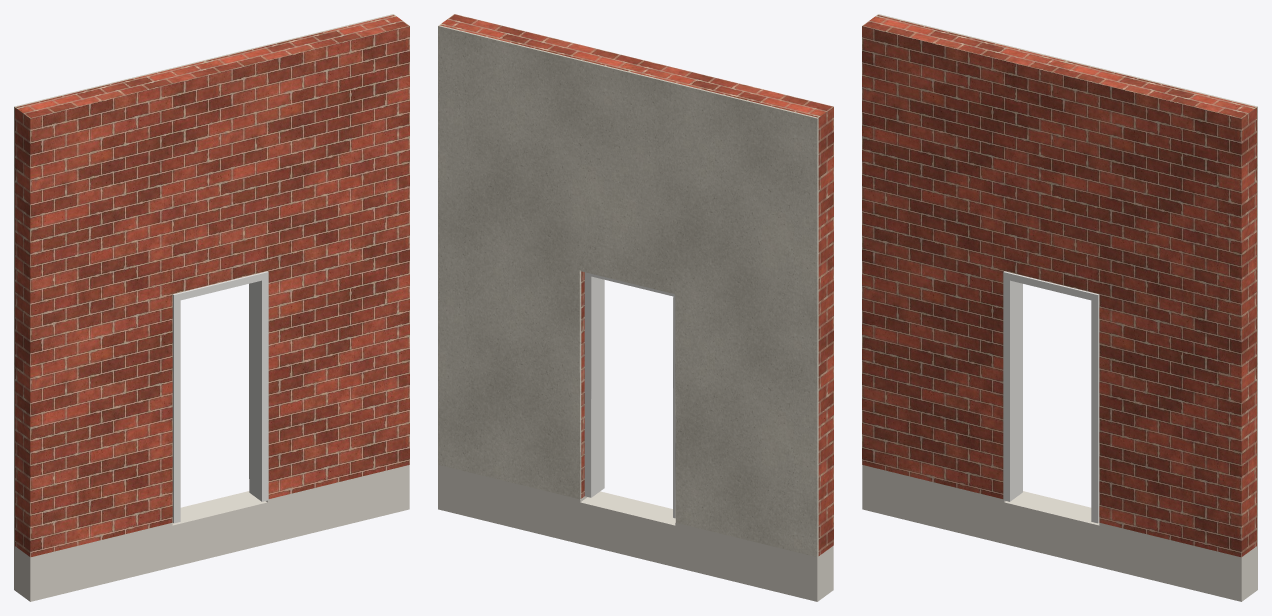
File: wall_tower_end.glb
3 views of the same model, side by side, from view 1: azimuth 30°, elevation 25°; view 2: azimuth 150°, elevation 25°; view 3: azimuth 330°, elevation 25° (orthographic).
Parts seen in each view (by area): view 1: wall_tower_end_brick, wall_tower_end_lime, wall_tower_end_frame, wall_tower_end_plaster; view 2: wall_tower_end_plaster, wall_tower_end_lime, wall_tower_end_brick, wall_tower_end_frame; view 3: wall_tower_end_brick, wall_tower_end_lime, wall_tower_end_frame, wall_tower_end_plaster.
Boxes of the visible parts, x1,y1,x2,y2 form: wall_tower_end_brick: (15,15,409,557); wall_tower_end_lime: (14,465,409,601); wall_tower_end_frame: (172,271,268,523); wall_tower_end_plaster: (14,14,394,545); wall_tower_end_plaster: (438,25,818,557); wall_tower_end_lime: (438,465,833,601); wall_tower_end_brick: (439,14,833,555); wall_tower_end_frame: (584,272,675,518); wall_tower_end_brick: (862,15,1256,557); wall_tower_end_lime: (862,465,1257,601); wall_tower_end_frame: (1003,271,1099,523); wall_tower_end_plaster: (877,14,1257,545).
Size of the model in its own units: 4 by 4.87 by 0.32.
Materials: 4 (2 with a texture image).
